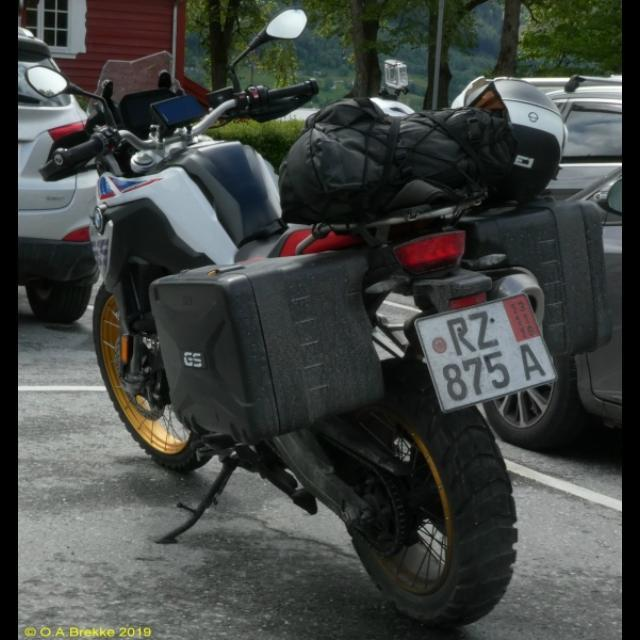license-plates: (416, 295, 557, 412)
